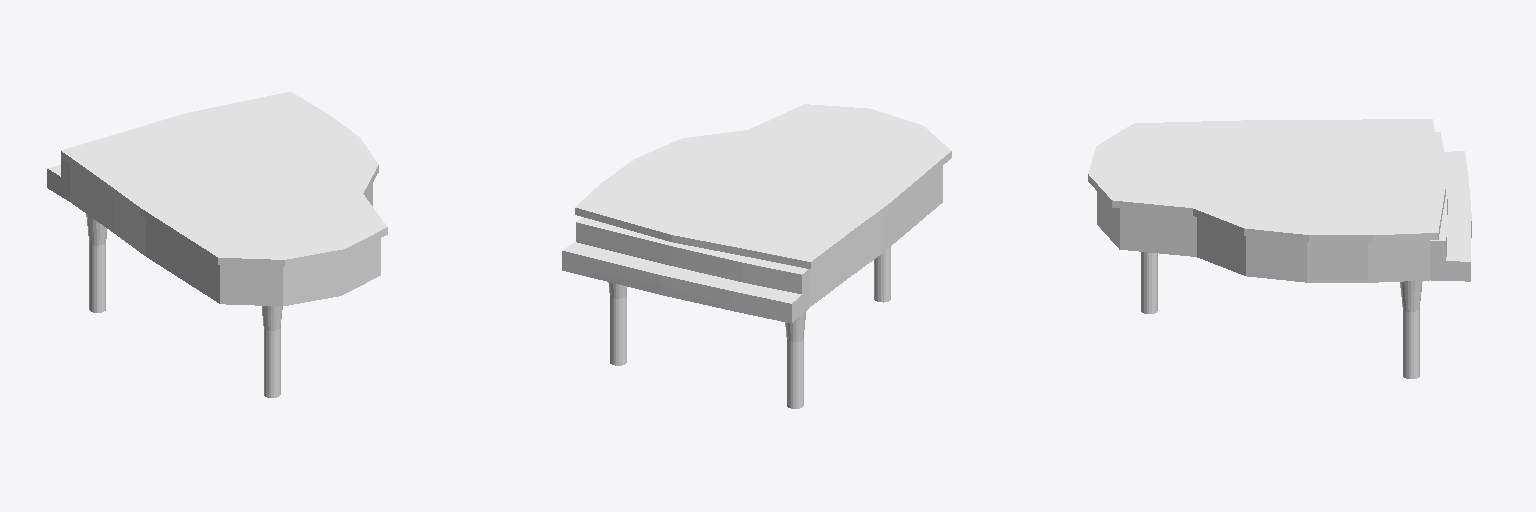
Rendered from piano 1.obj.
3 views of the same model, side by side, from view 1: azimuth 30°, elevation 25°; view 2: azimuth 150°, elevation 25°; view 3: azimuth 270°, elevation 25° (orthographic).
Parts seen in each view (by area): view 1: pCylinder5_initialShadingGroup; view 2: pCylinder5_initialShadingGroup; view 3: pCylinder5_initialShadingGroup.
Part boxes in pixels (x1,y1,x2,y2): pCylinder5_initialShadingGroup: (47,91,387,397); pCylinder5_initialShadingGroup: (562,104,951,408); pCylinder5_initialShadingGroup: (1088,119,1471,378).
Size of the model in its own units: 4.45 by 2.81 by 6.2.